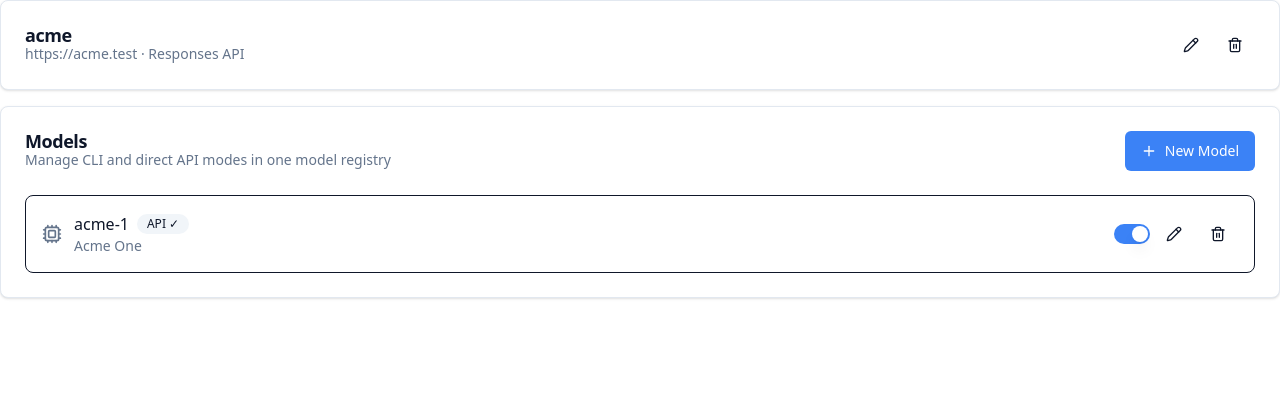
Scenario: ModelsList › registered custom provider › delete asks for confirmation and surfaces the BE 409 in-use message on failure
Click the 2nd button: {"x": 1235, "y": 45} [1215,25,1255,65]
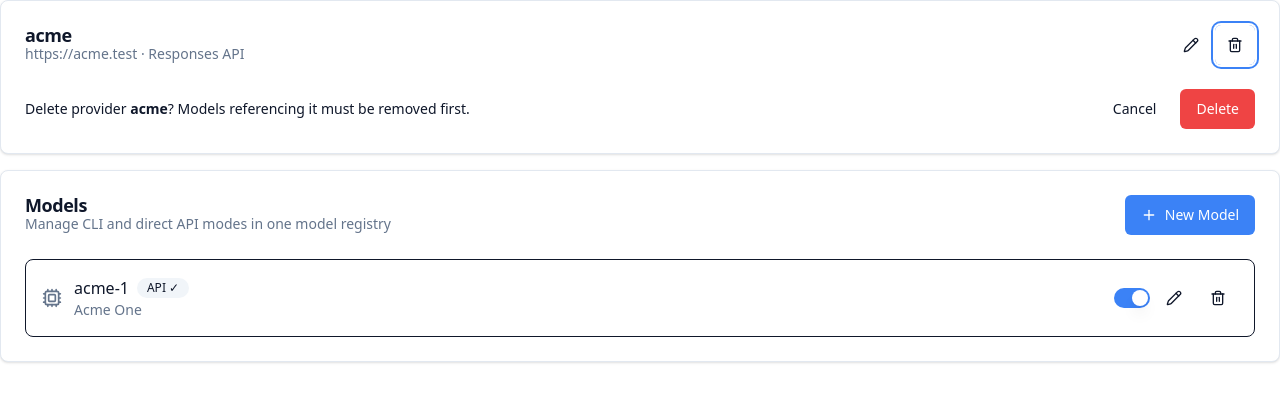
Result: the text "Delete provider" is shown at [25,99,130,118]
Click the button "Delete": {"x": 1218, "y": 109} [1180,89,1255,129]
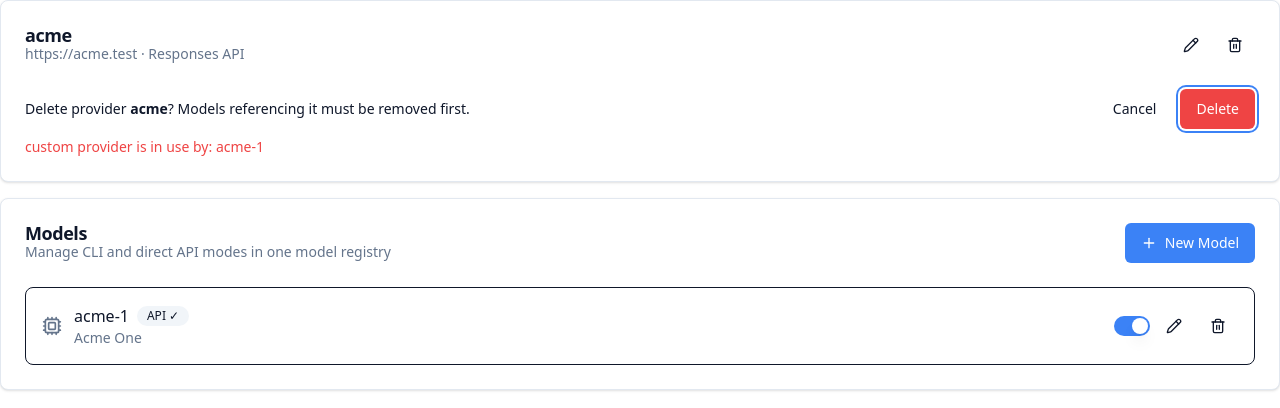
Result: the text "custom provider is in use by: acme-1" is shown at [25,137,264,156]
